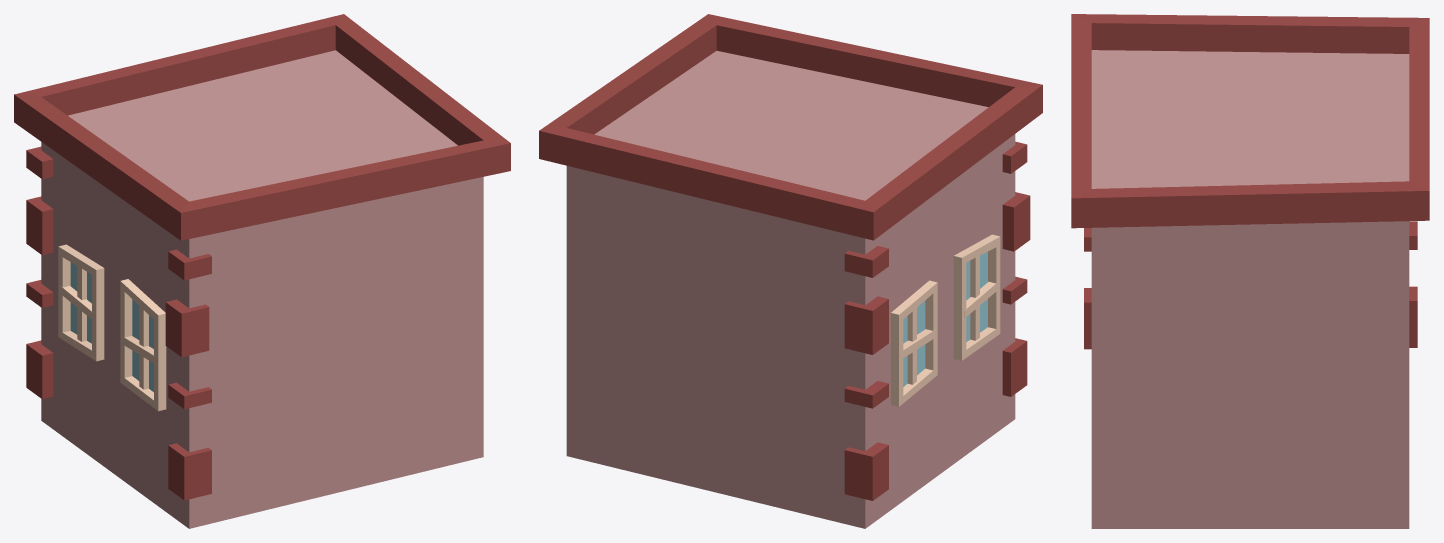
Rendered from Brown_house_no_door.fbx.
3 views of the same model, side by side, from view 1: azimuth 30°, elevation 25°; view 2: azimuth 150°, elevation 25°; view 3: azimuth 270°, elevation 25° (orthographic). The views are drawn at different scales.
Parts seen in each view (by area): view 1: Brown house no door; view 2: Brown house no door; view 3: Brown house no door.
Boxes of the visible parts, <box> form: Brown house no door: <box>14,14,510,528</box>; Brown house no door: <box>539,14,1042,528</box>; Brown house no door: <box>1071,14,1429,528</box>.
Size of the model in its own units: 1199 by 1137 by 1051.
